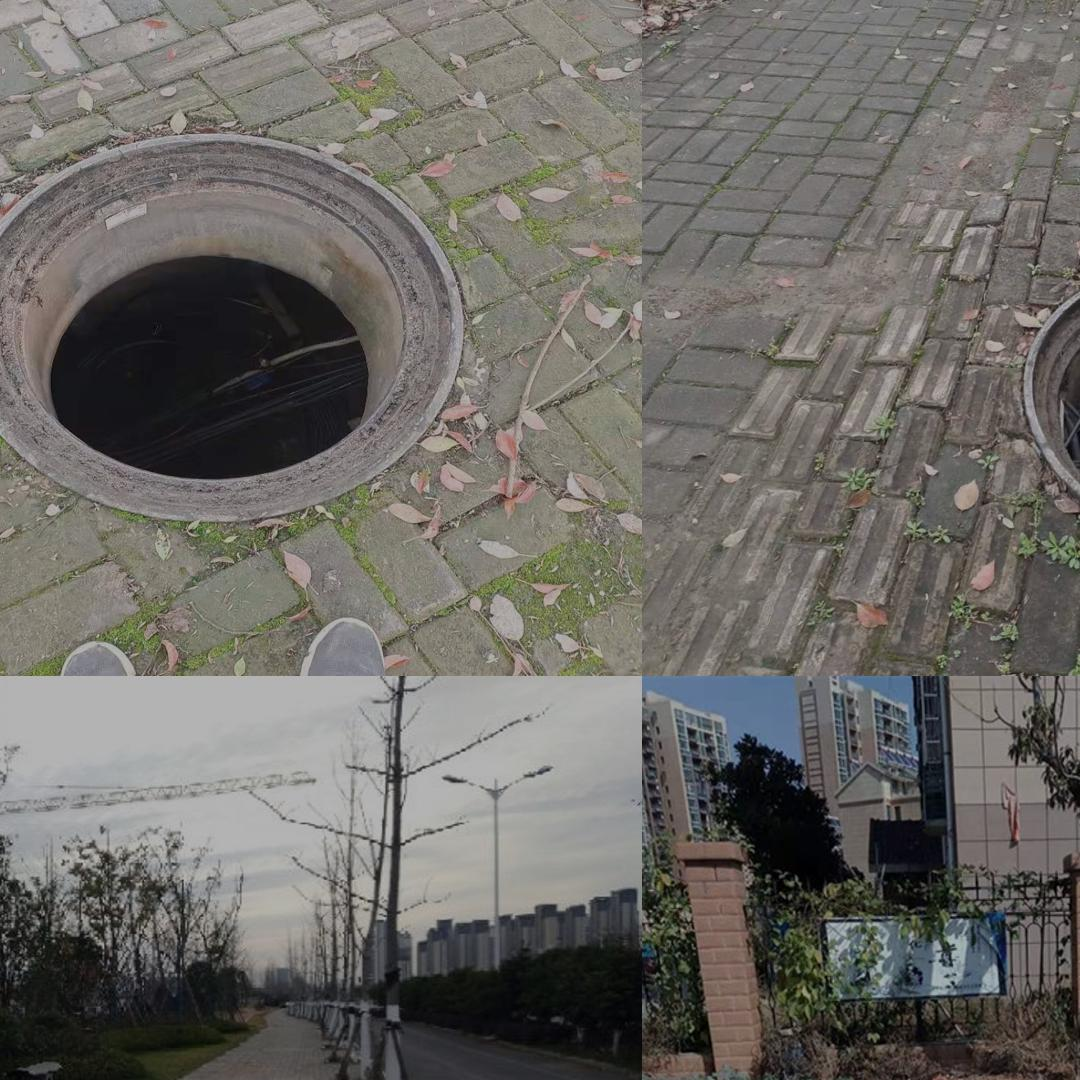lose: (0, 131, 464, 529), (1023, 260, 1080, 572)
